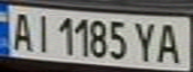1: (54, 13, 75, 55), (69, 15, 90, 56)
5: (106, 18, 130, 62)
8: (87, 17, 109, 60)
A: (151, 19, 187, 65), (6, 9, 36, 52)
I: (30, 11, 54, 54)
Y: (130, 18, 163, 63)
